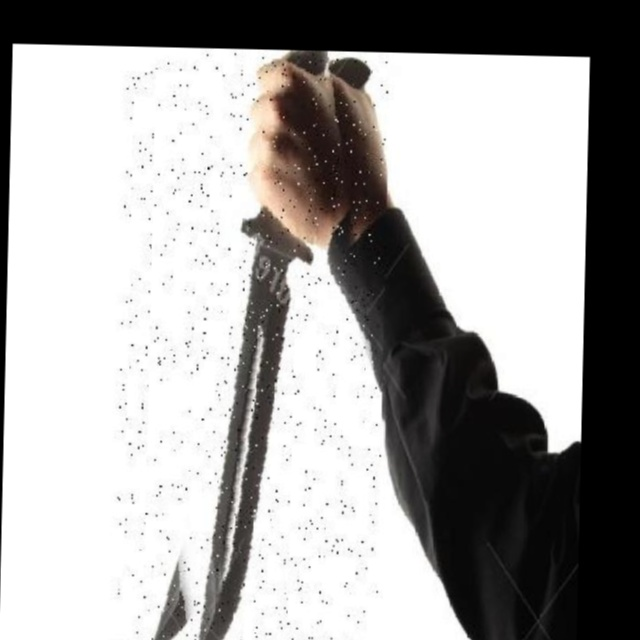Sharp-Object: (114, 46, 391, 640)
